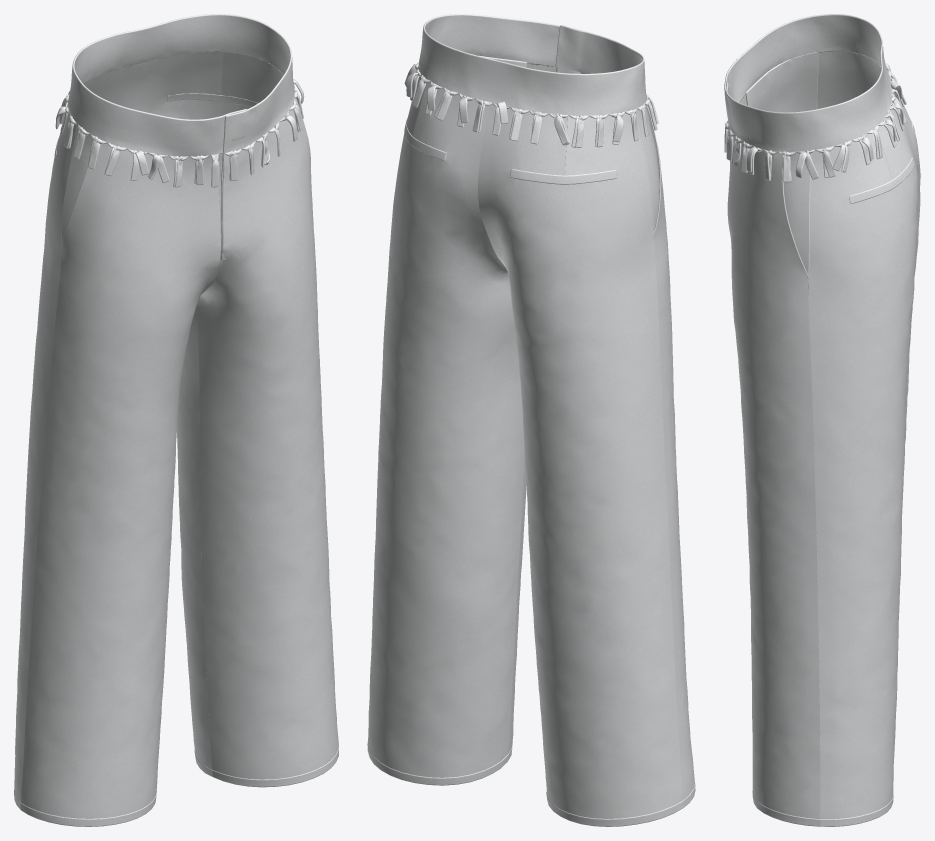
Rendered from Look 8_3.gltf.
3 views of the same model, side by side, from view 1: azimuth 30°, elevation 25°; view 2: azimuth 150°, elevation 25°; view 3: azimuth 270°, elevation 25° (orthographic). The views are drawn at different scales.
Parts seen in each view (by area): view 1: Cloth; view 2: Cloth; view 3: Cloth.
Part boxes in pixels (box(x1,y1,x2,y2)): Cloth: box(14, 14, 338, 826); Cloth: box(367, 14, 695, 826); Cloth: box(724, 14, 920, 826).
Size of the model in its own units: 0.4796 by 1.1 by 0.2762.
Materials: 5 (5 with a texture image).
